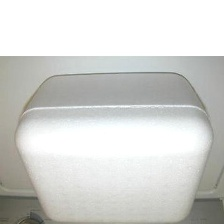foam_box: (10, 66, 217, 224)
